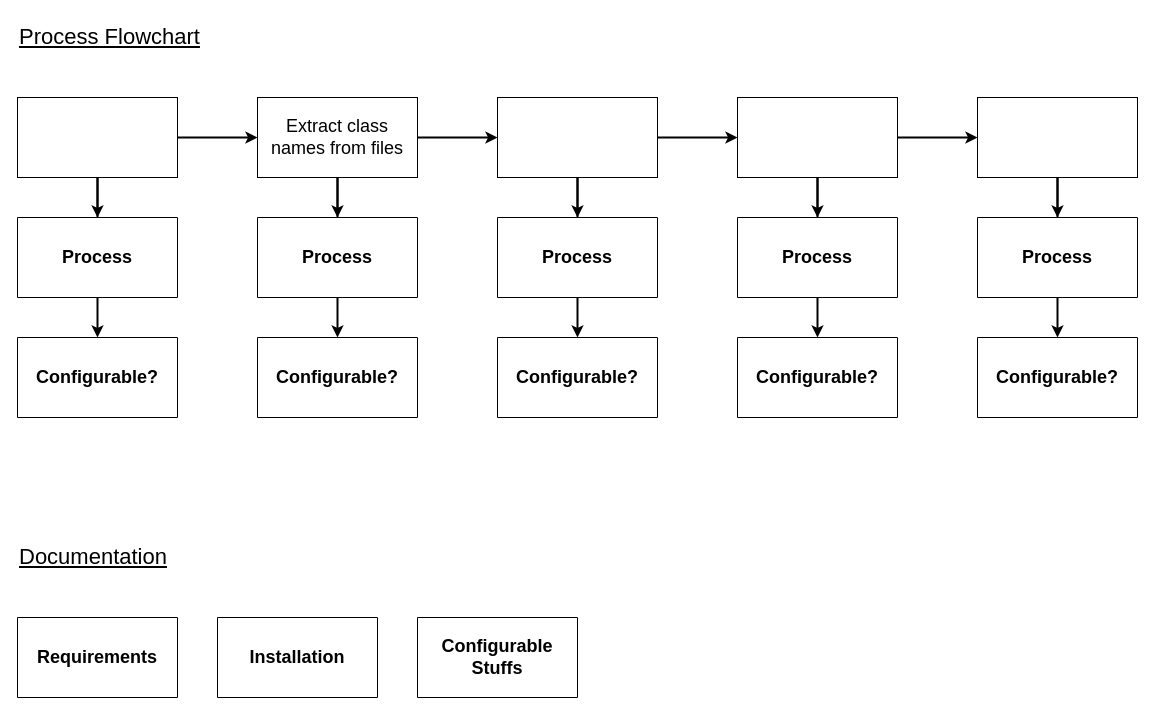
Image size: 1155x715. Some labels were removed from this diagram. Each missing label, with the box of its shape:
Generate styles based on class names: (496, 96, 658, 178)
Read files in codebase: (16, 96, 178, 178)
Save sorted styles to a .css file: (976, 96, 1138, 178)
Sort generated styles: (736, 96, 898, 178)
